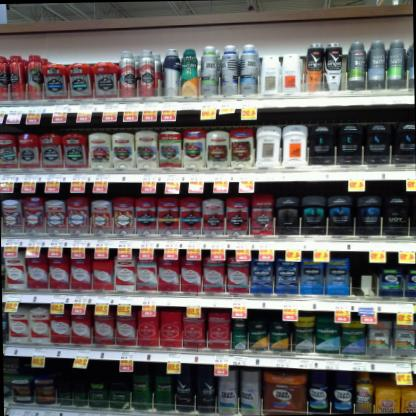empty_space: (349, 252, 378, 296)
